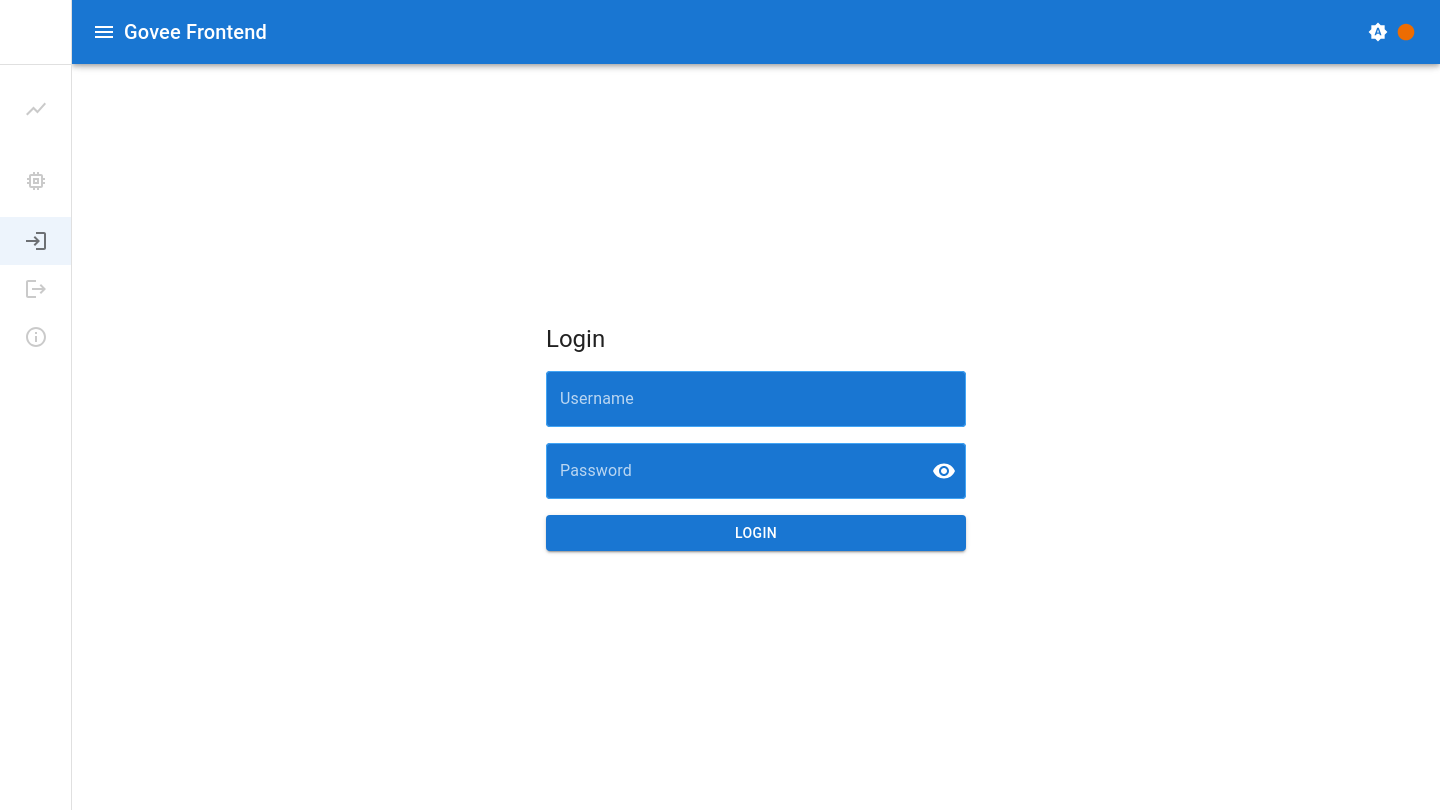
Scenario: App › cycles theme mode icon from system to light to dark
This screenshot has width=1440, height=810.
Click the button named "theme-mode-system" at (1378, 32), box top-left (1360, 14), bottom-right (1396, 50)
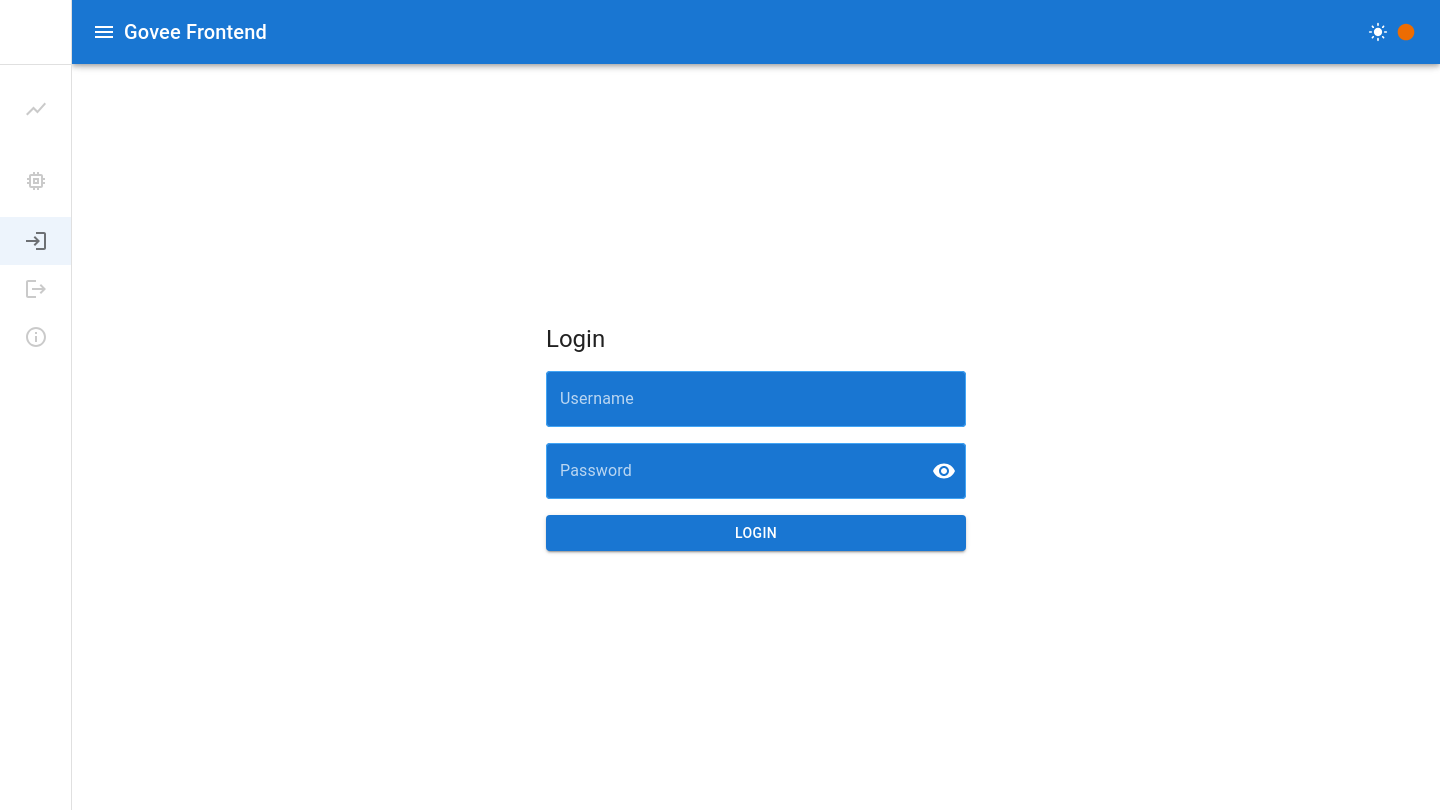
expect the button named "theme-mode-light" is shown: met
Click the button named "theme-mode-light" at (1378, 32), box top-left (1360, 14), bottom-right (1396, 50)
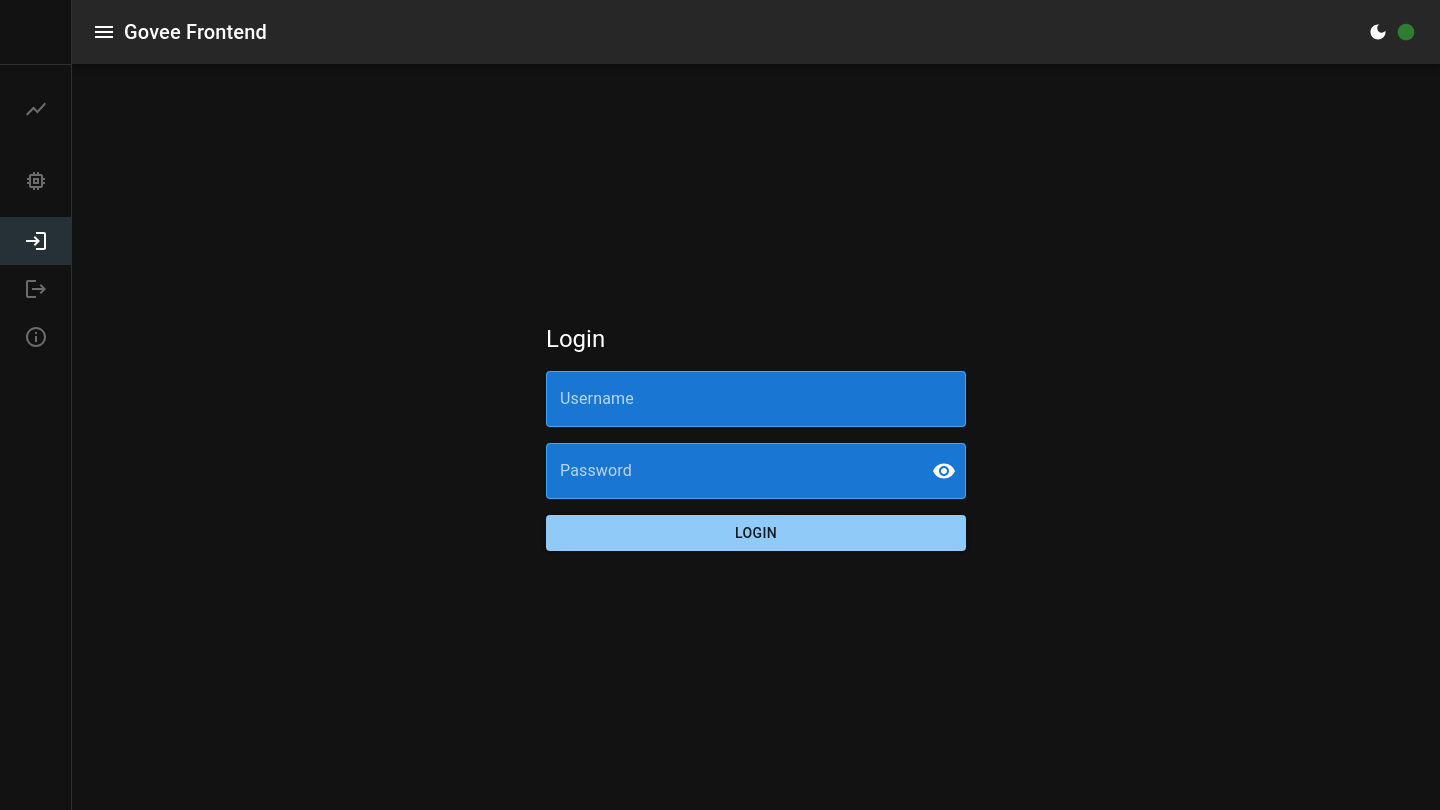
expect the button named "theme-mode-dark" is shown: met, box top-left (1360, 14), bottom-right (1396, 50)
